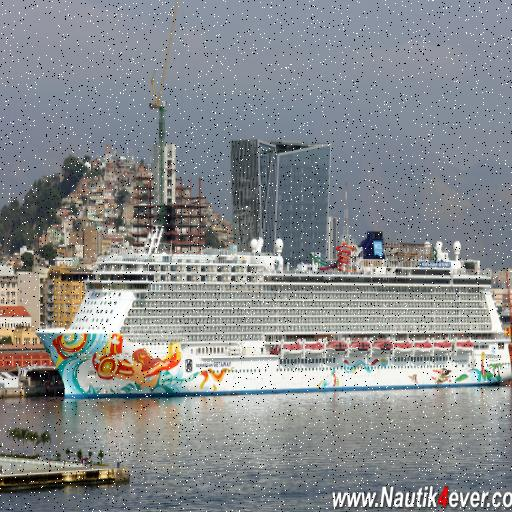cruises: (35, 223, 512, 402)
